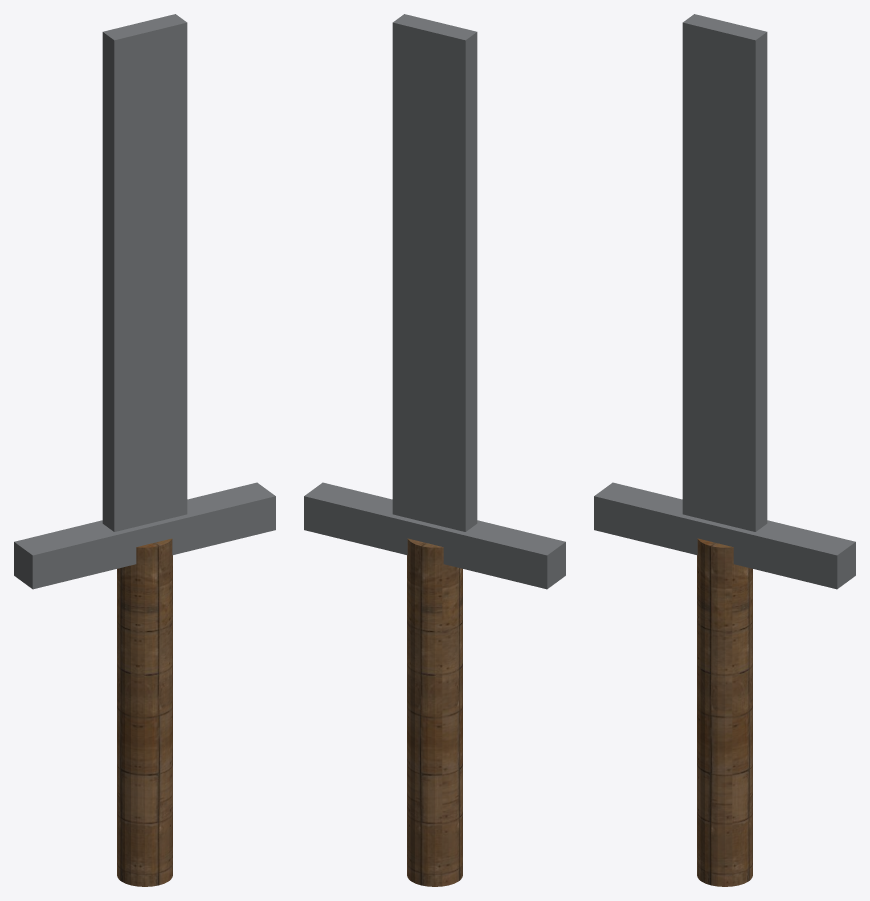
Rendered from espada.glb.
The picture shows the model from 3 angles, left to right: view 1: azimuth 30°, elevation 25°; view 2: azimuth 150°, elevation 25°; view 3: azimuth 330°, elevation 25°; orthographic projection.
Visible parts, largest first — view 1: Lâmina esquemática, Empunhadura, Guarda; view 2: Lâmina esquemática, Empunhadura, Guarda; view 3: Lâmina esquemática, Empunhadura, Guarda.
Part boxes in pixels (left/top/right/bottom): Lâmina esquemática: left=102, top=14, right=187, bottom=531; Empunhadura: left=117, top=538, right=172, bottom=886; Guarda: left=14, top=482, right=275, bottom=589; Lâmina esquemática: left=392, top=14, right=477, bottom=531; Empunhadura: left=407, top=538, right=462, bottom=886; Guarda: left=304, top=482, right=565, bottom=589; Lâmina esquemática: left=682, top=14, right=767, bottom=531; Empunhadura: left=697, top=538, right=752, bottom=886; Guarda: left=594, top=482, right=855, bottom=589.
Size of the model in its own units: 0.6 by 2 by 0.12.
2 materials, 1 textured.
